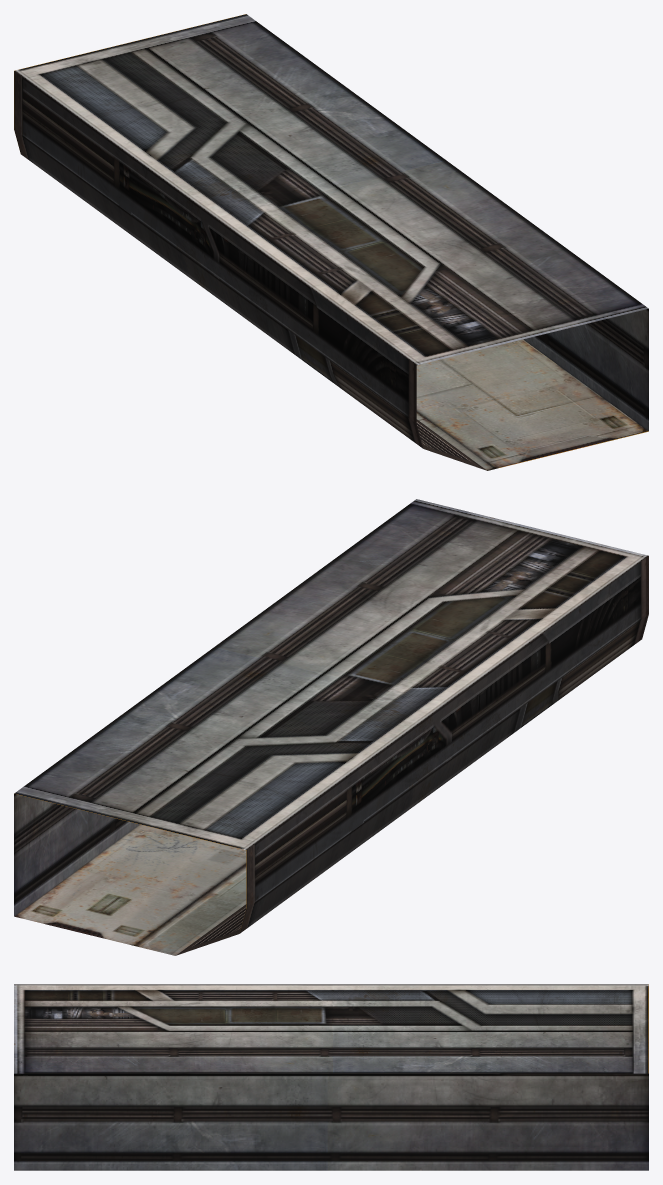
The model's file is Edge_04.fbx.
3 renders of one model, top to bottom at view 1: azimuth 30°, elevation 25°; view 2: azimuth 150°, elevation 25°; view 3: azimuth 270°, elevation 25°, orthographic. The views are drawn at different scales.
Visible parts, largest first — view 1: Edge_04; view 2: Edge_04; view 3: Edge_04.
Part boxes in pixels (x1,y1,x2,y2): Edge_04: (14, 14, 648, 470); Edge_04: (14, 499, 648, 955); Edge_04: (14, 984, 648, 1170).
Bounding box in the file's own units: 100 × 50.53 × 300.
